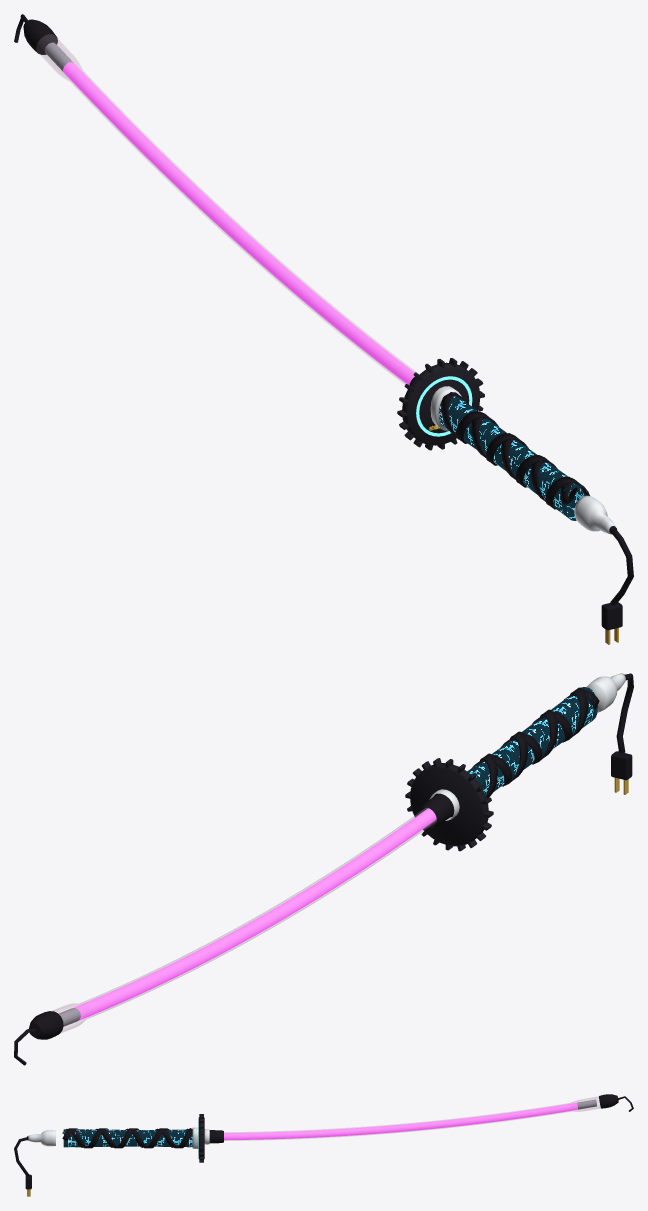
The model's file is w_katana_neon.glb.
The picture shows the model from 3 angles, top to bottom: view 1: azimuth 30°, elevation 25°; view 2: azimuth 150°, elevation 25°; view 3: azimuth 270°, elevation 25°; orthographic projection. The views are drawn at different scales.
Parts seen in each view (by area): view 1: nt_blade_wzN, nt_tsuka_wzA, nt_fit_wzB, nt_tsuka_wzN, nt_tsuka_wzB; view 2: nt_blade_wzN, nt_fit_wzB, nt_tsuka_wzA, nt_tsuka_wzN, nt_tsuka_wzB; view 3: nt_blade_wzN, nt_tsuka_wzA, nt_tsuka_wzN, nt_fit_wzB, nt_tsuka_wzB.
Part boxes in pixels (x1,y1,x2,y2): nt_blade_wzN: (14, 14, 419, 385); nt_tsuka_wzA: (441, 392, 633, 630); nt_fit_wzB: (397, 358, 484, 450); nt_tsuka_wzN: (439, 396, 586, 520); nt_tsuka_wzB: (574, 495, 618, 644); nt_blade_wzN: (14, 808, 436, 1065); nt_fit_wzB: (405, 758, 493, 851); nt_tsuka_wzA: (472, 673, 633, 797); nt_tsuka_wzN: (467, 687, 597, 795); nt_tsuka_wzB: (586, 673, 628, 794); nt_blade_wzN: (224, 1094, 633, 1140); nt_tsuka_wzA: (14, 1128, 192, 1189); nt_tsuka_wzN: (63, 1129, 192, 1147); nt_fit_wzB: (192, 1114, 223, 1162); nt_tsuka_wzB: (27, 1130, 55, 1196).
Bounding box in the file's own units: 0.0848 × 0.1936 × 1.08.
10 materials, 2 textured.
